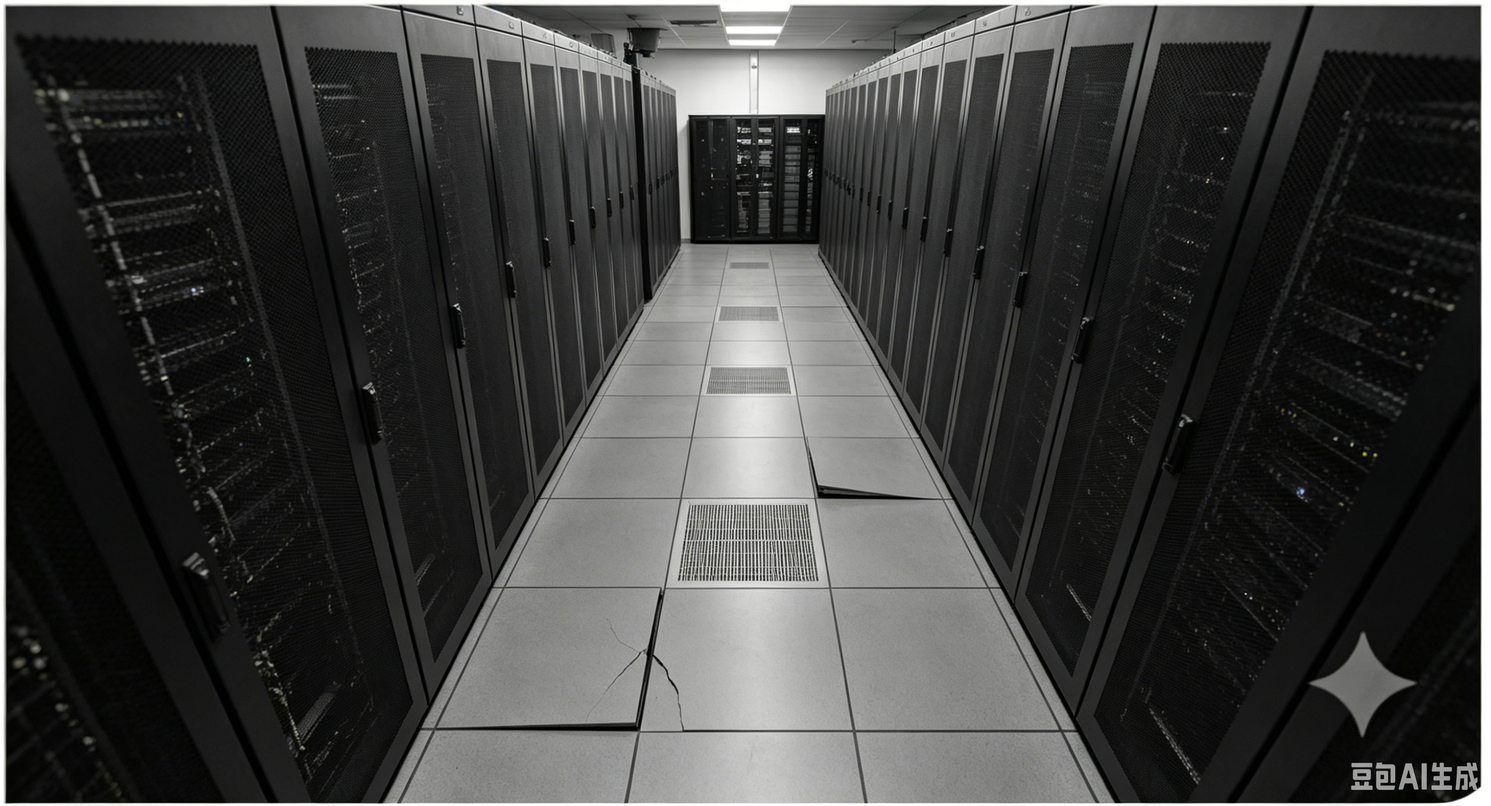floor_defect: (791, 423, 957, 507), (639, 578, 702, 740), (441, 704, 671, 746), (602, 603, 667, 705)
